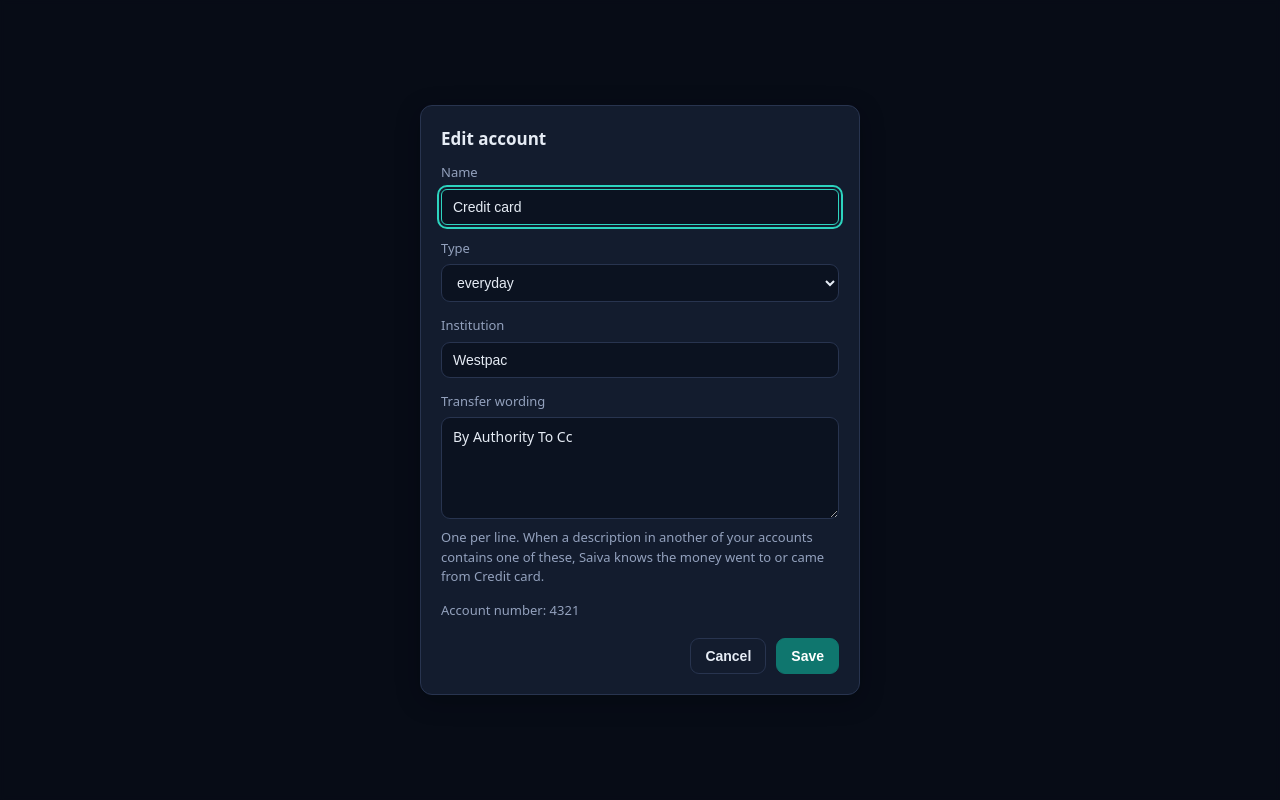
it: AccountDialog › says why a save was refused, and stays open
Click the button "Save" at (808, 656), box [776, 638, 839, 674]
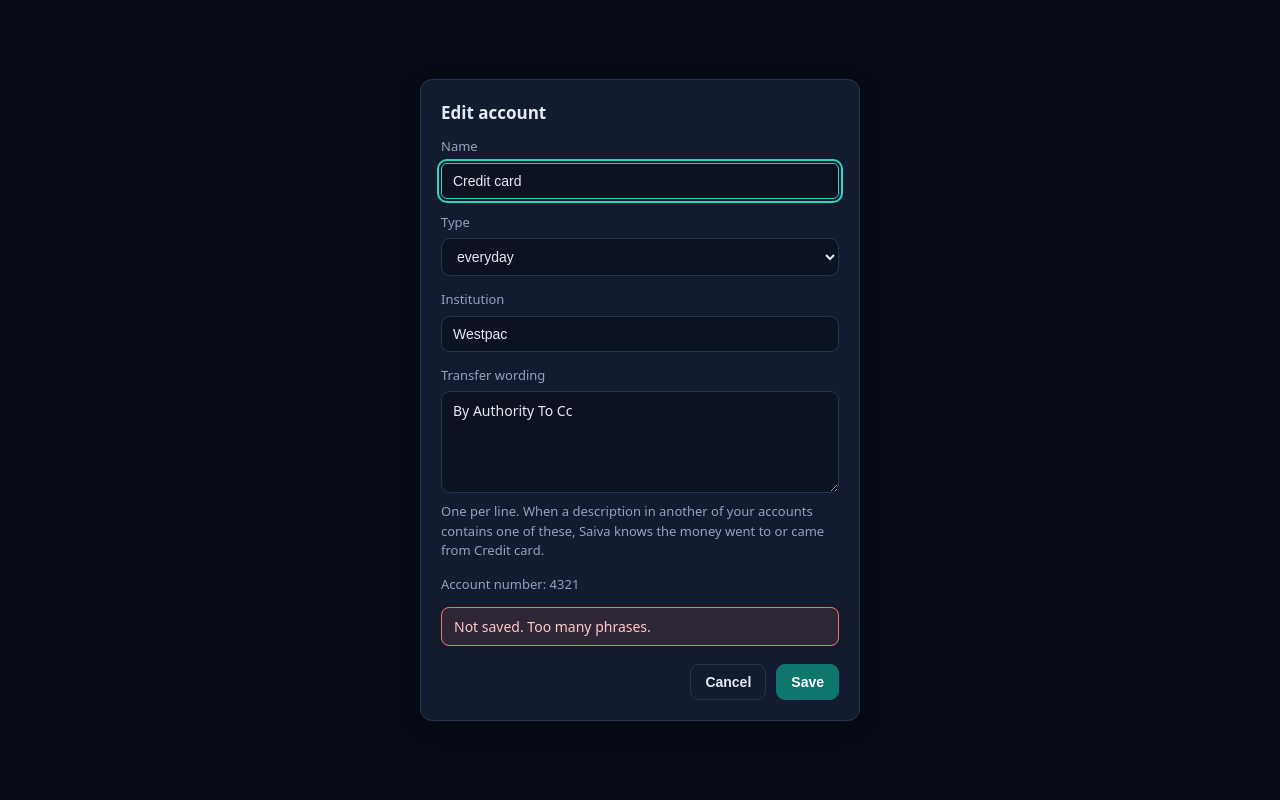
Expected: the text "Not saved. Too many phrases." is shown, [441, 607, 839, 646]
